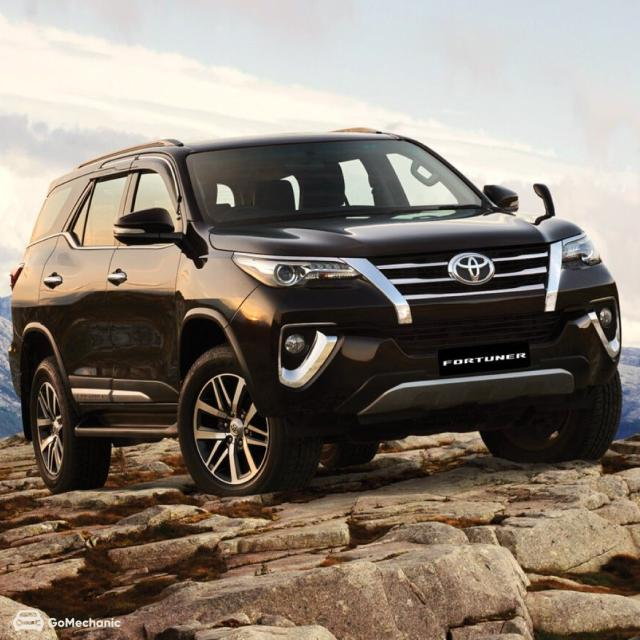light_vehicle: (2, 127, 624, 499)
